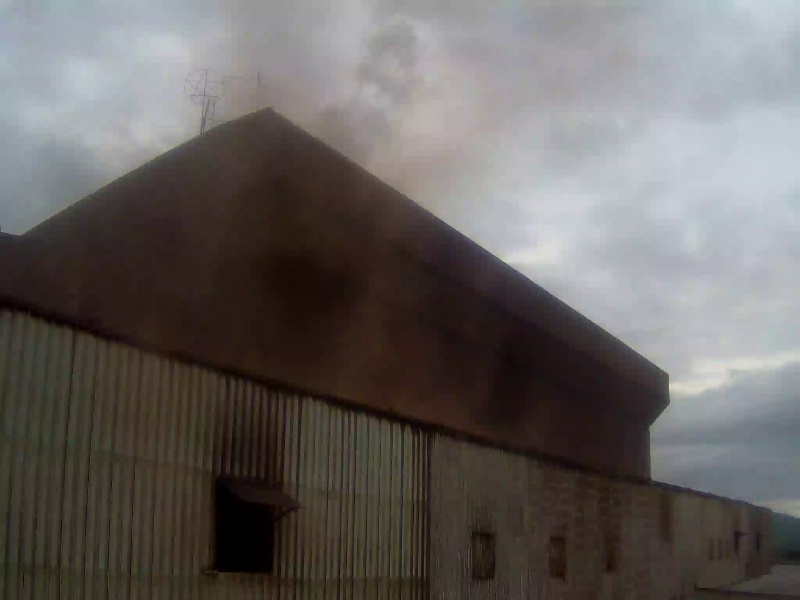bom: (663, 332, 779, 494)
pessimo: (180, 6, 703, 497)
ruim: (1, 4, 279, 161)
